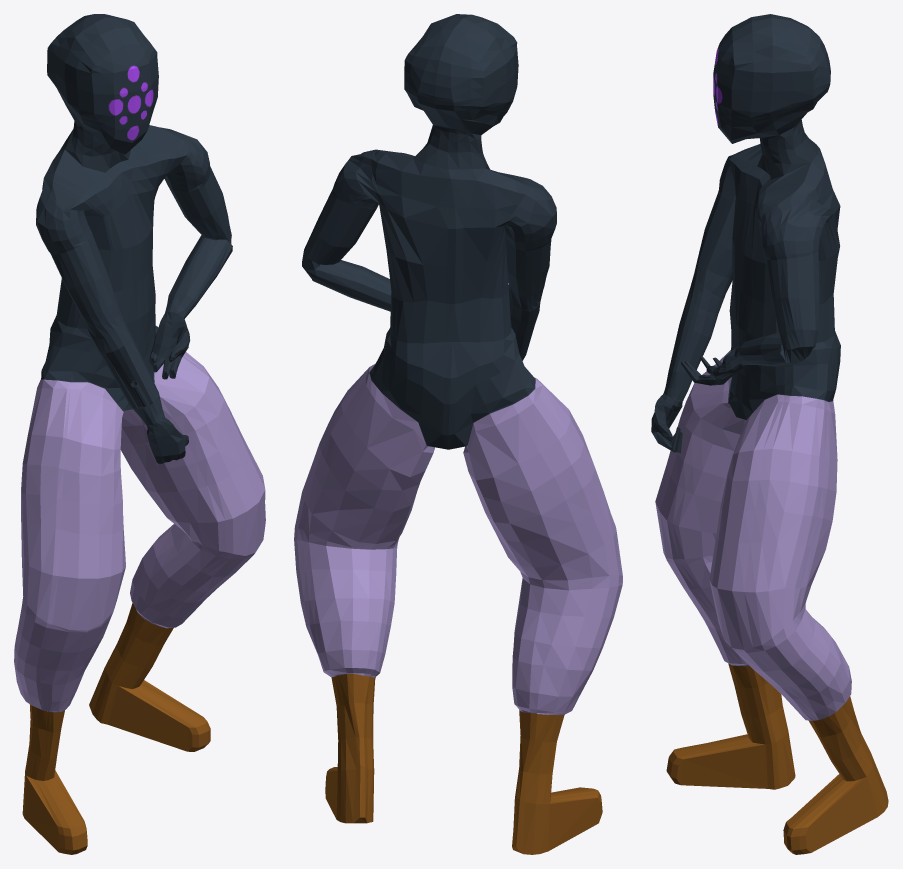
The model's file is Oracle_WR_000018.obj.
3 views of the same model, side by side, from view 1: azimuth 30°, elevation 25°; view 2: azimuth 150°, elevation 25°; view 3: azimuth 270°, elevation 25° (orthographic). The views are drawn at different scales.
Visible parts, largest first — view 1: Cube; view 2: Cube; view 3: Cube.
Boxes of the visible parts, box(x1,y1,x2,y2) form: Cube: box(14, 14, 265, 854); Cube: box(294, 14, 622, 854); Cube: box(651, 14, 888, 854).
Bounding box in the file's own units: 1.39 × 3.81 × 1.02.
